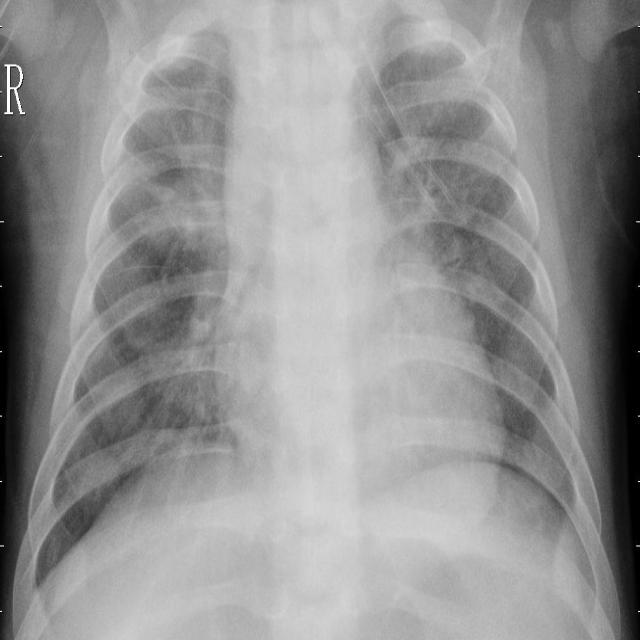low-pneumonia: (146, 32, 230, 266), (387, 100, 480, 276), (166, 277, 223, 442)
